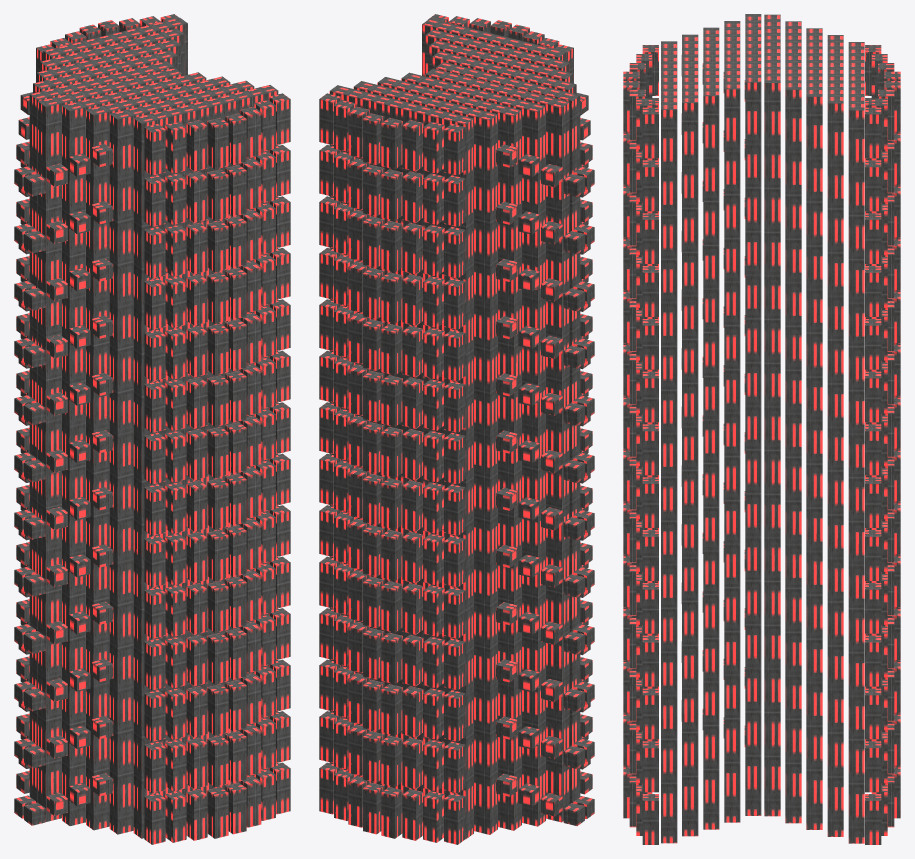
Rendered from Skyscraper.fbx.
3 views of the same model, side by side, from view 1: azimuth 30°, elevation 25°; view 2: azimuth 150°, elevation 25°; view 3: azimuth 270°, elevation 25° (orthographic). The views are drawn at different scales.
Parts seen in each view (by area): view 1: Cube.009; view 2: Cube.009; view 3: Cube.009.
Boxes of the visible parts, x1,y1,x2,y2 form: Cube.009: (14,14,290,844); Cube.009: (319,14,594,844); Cube.009: (623,14,900,844).
Bounding box in the file's own units: 3059 × 10000 × 3427.
